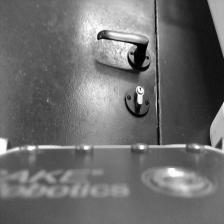Door Handle: (97, 29, 153, 73)
Lock: (125, 86, 152, 116)
